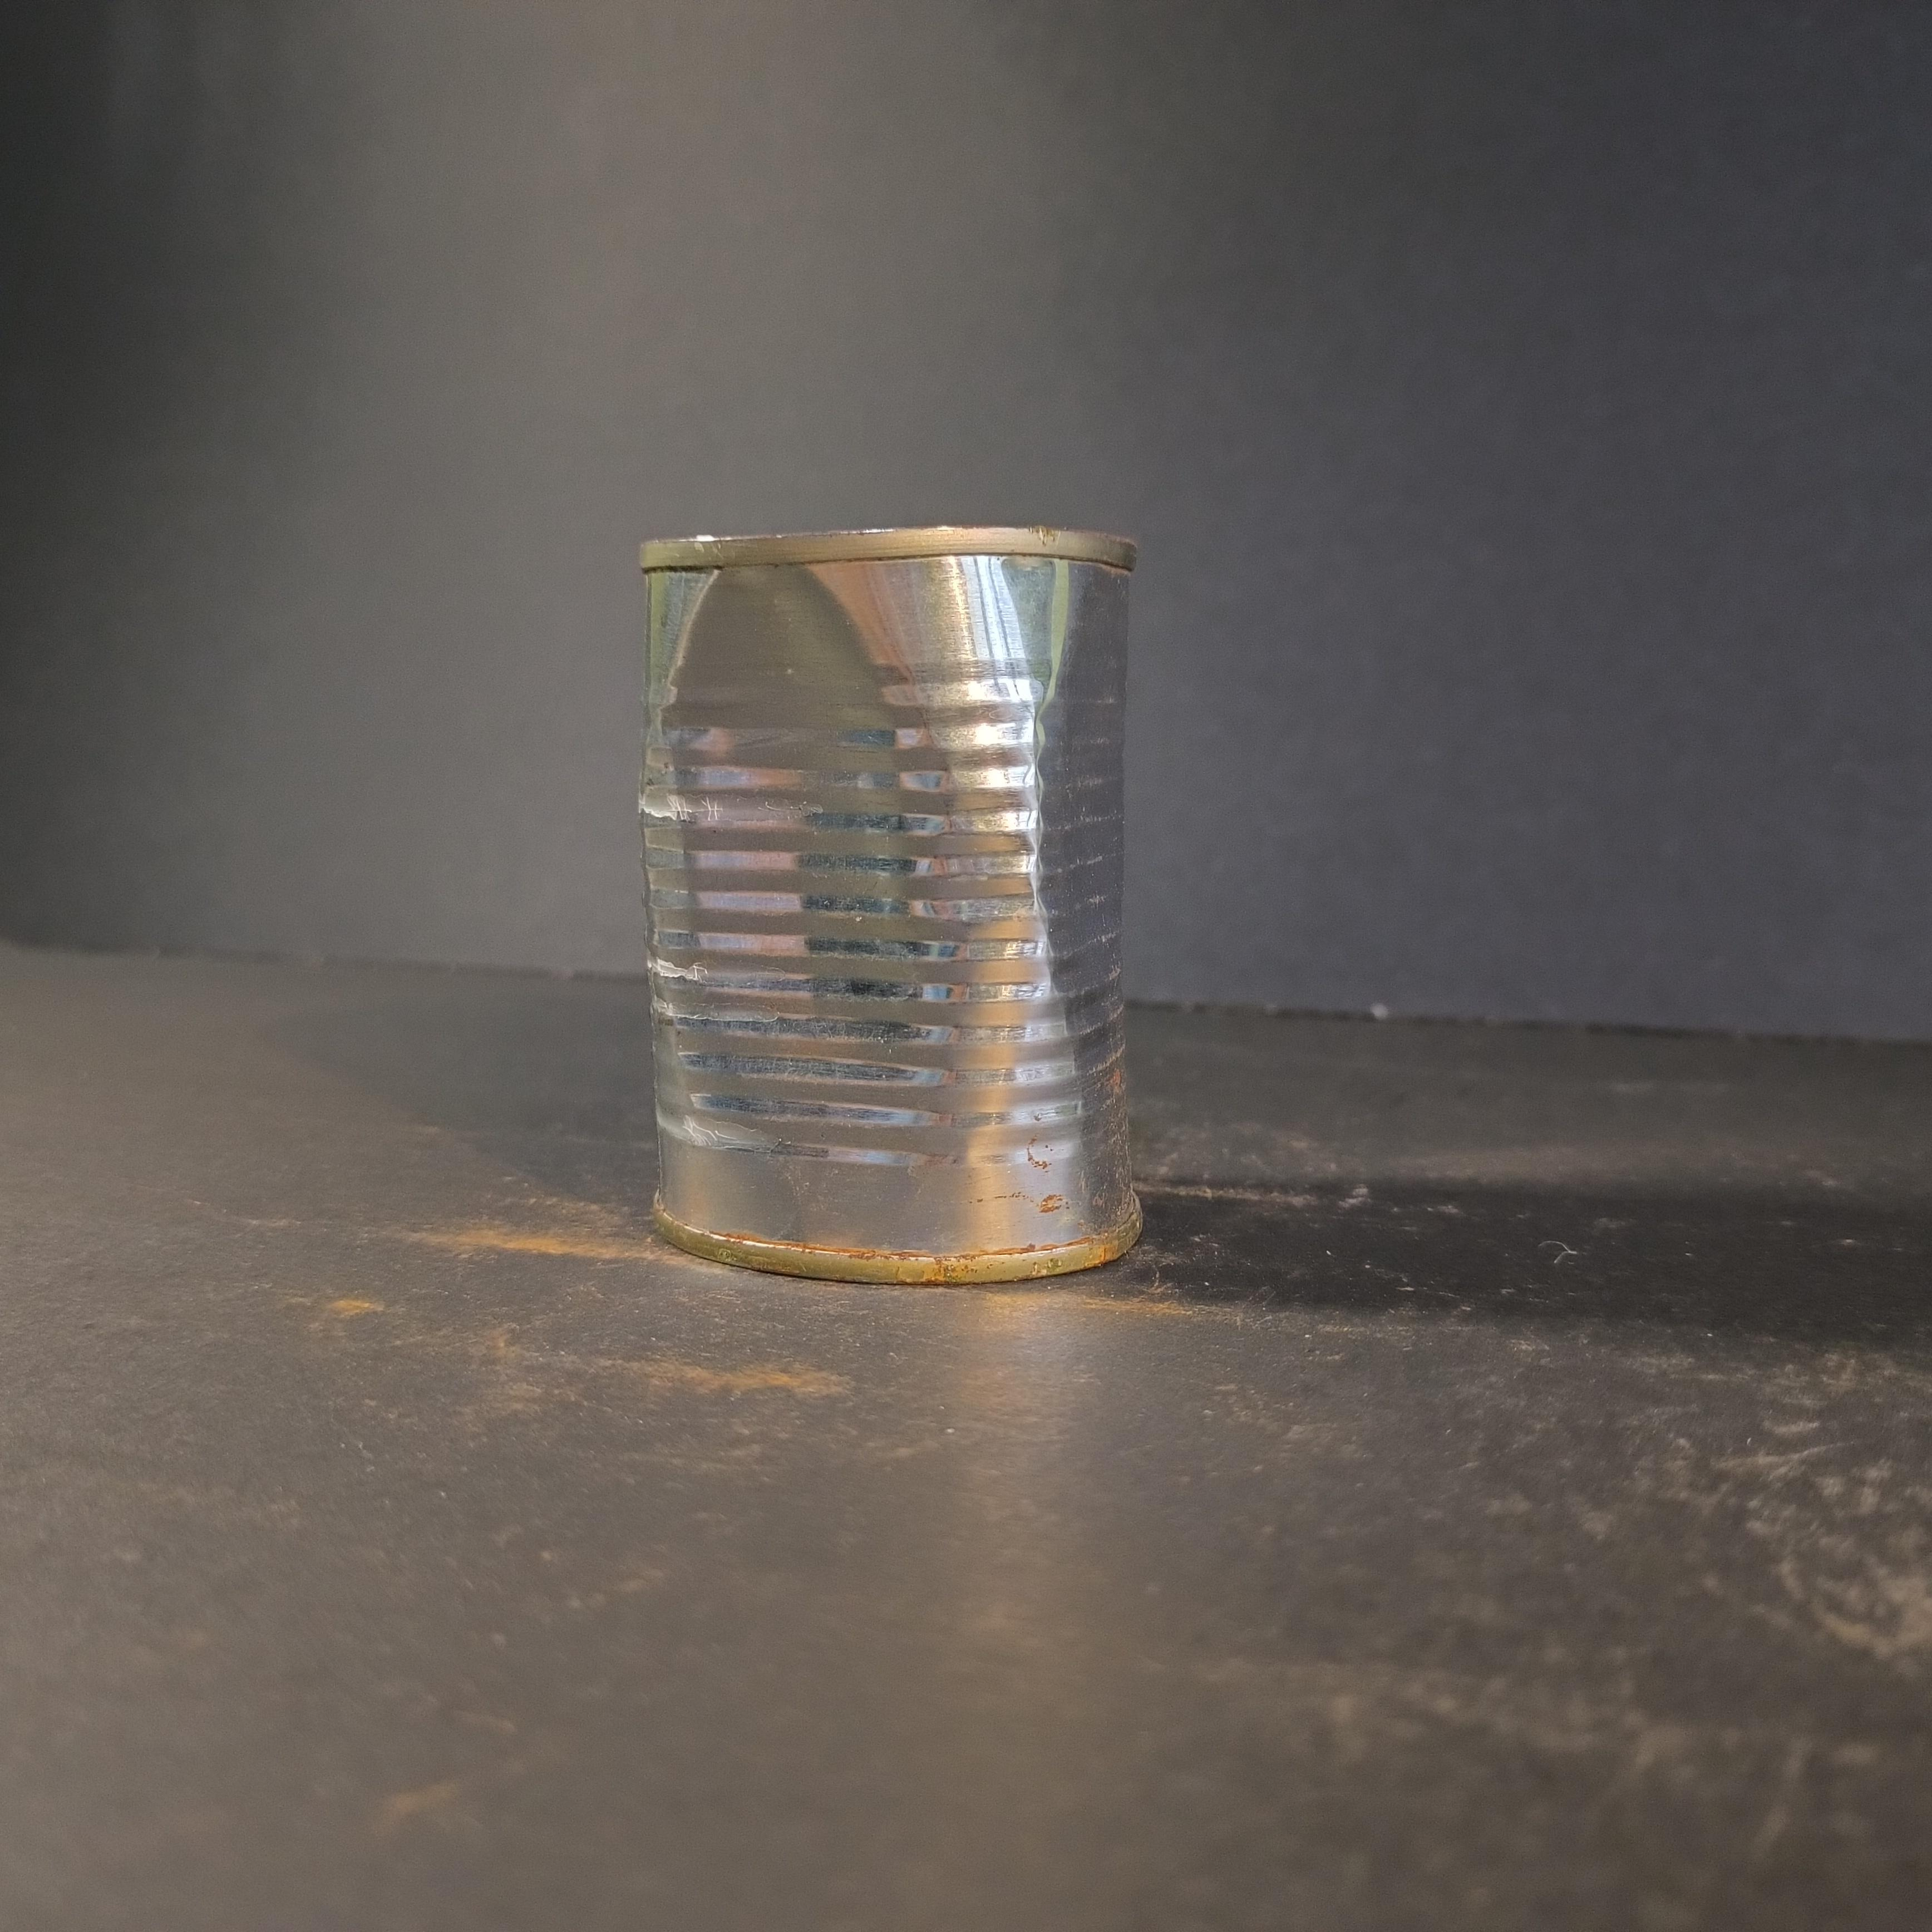Dented: (626, 504, 1162, 1283)
